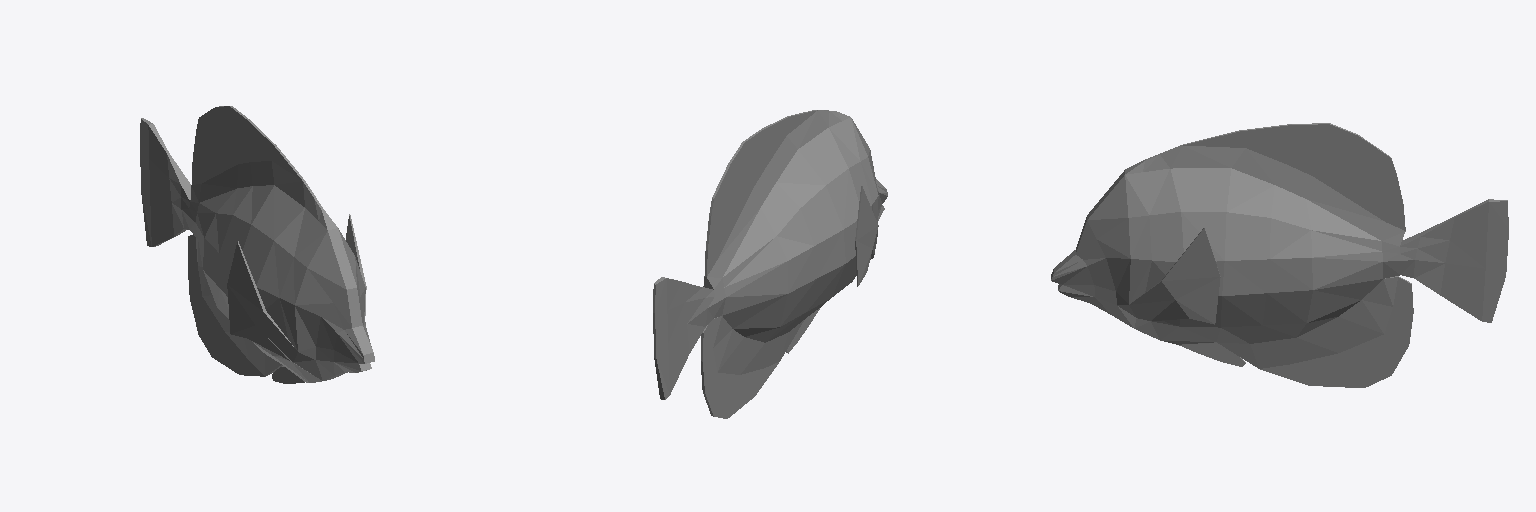
The model's file is TropicalFish01.obj.
3 renders of one model, left to right at view 1: azimuth 30°, elevation 25°; view 2: azimuth 150°, elevation 25°; view 3: azimuth 270°, elevation 25°, orthographic.
Visible parts, largest first — view 1: TropicalFish01; view 2: TropicalFish01; view 3: TropicalFish01.
Part boxes in pixels (left/top/right/bottom): TropicalFish01: left=140, top=106, right=374, bottom=383; TropicalFish01: left=653, top=110, right=887, bottom=418; TropicalFish01: left=1051, top=123, right=1508, bottom=387.
Size of the model in its own units: 134 by 289 by 455.